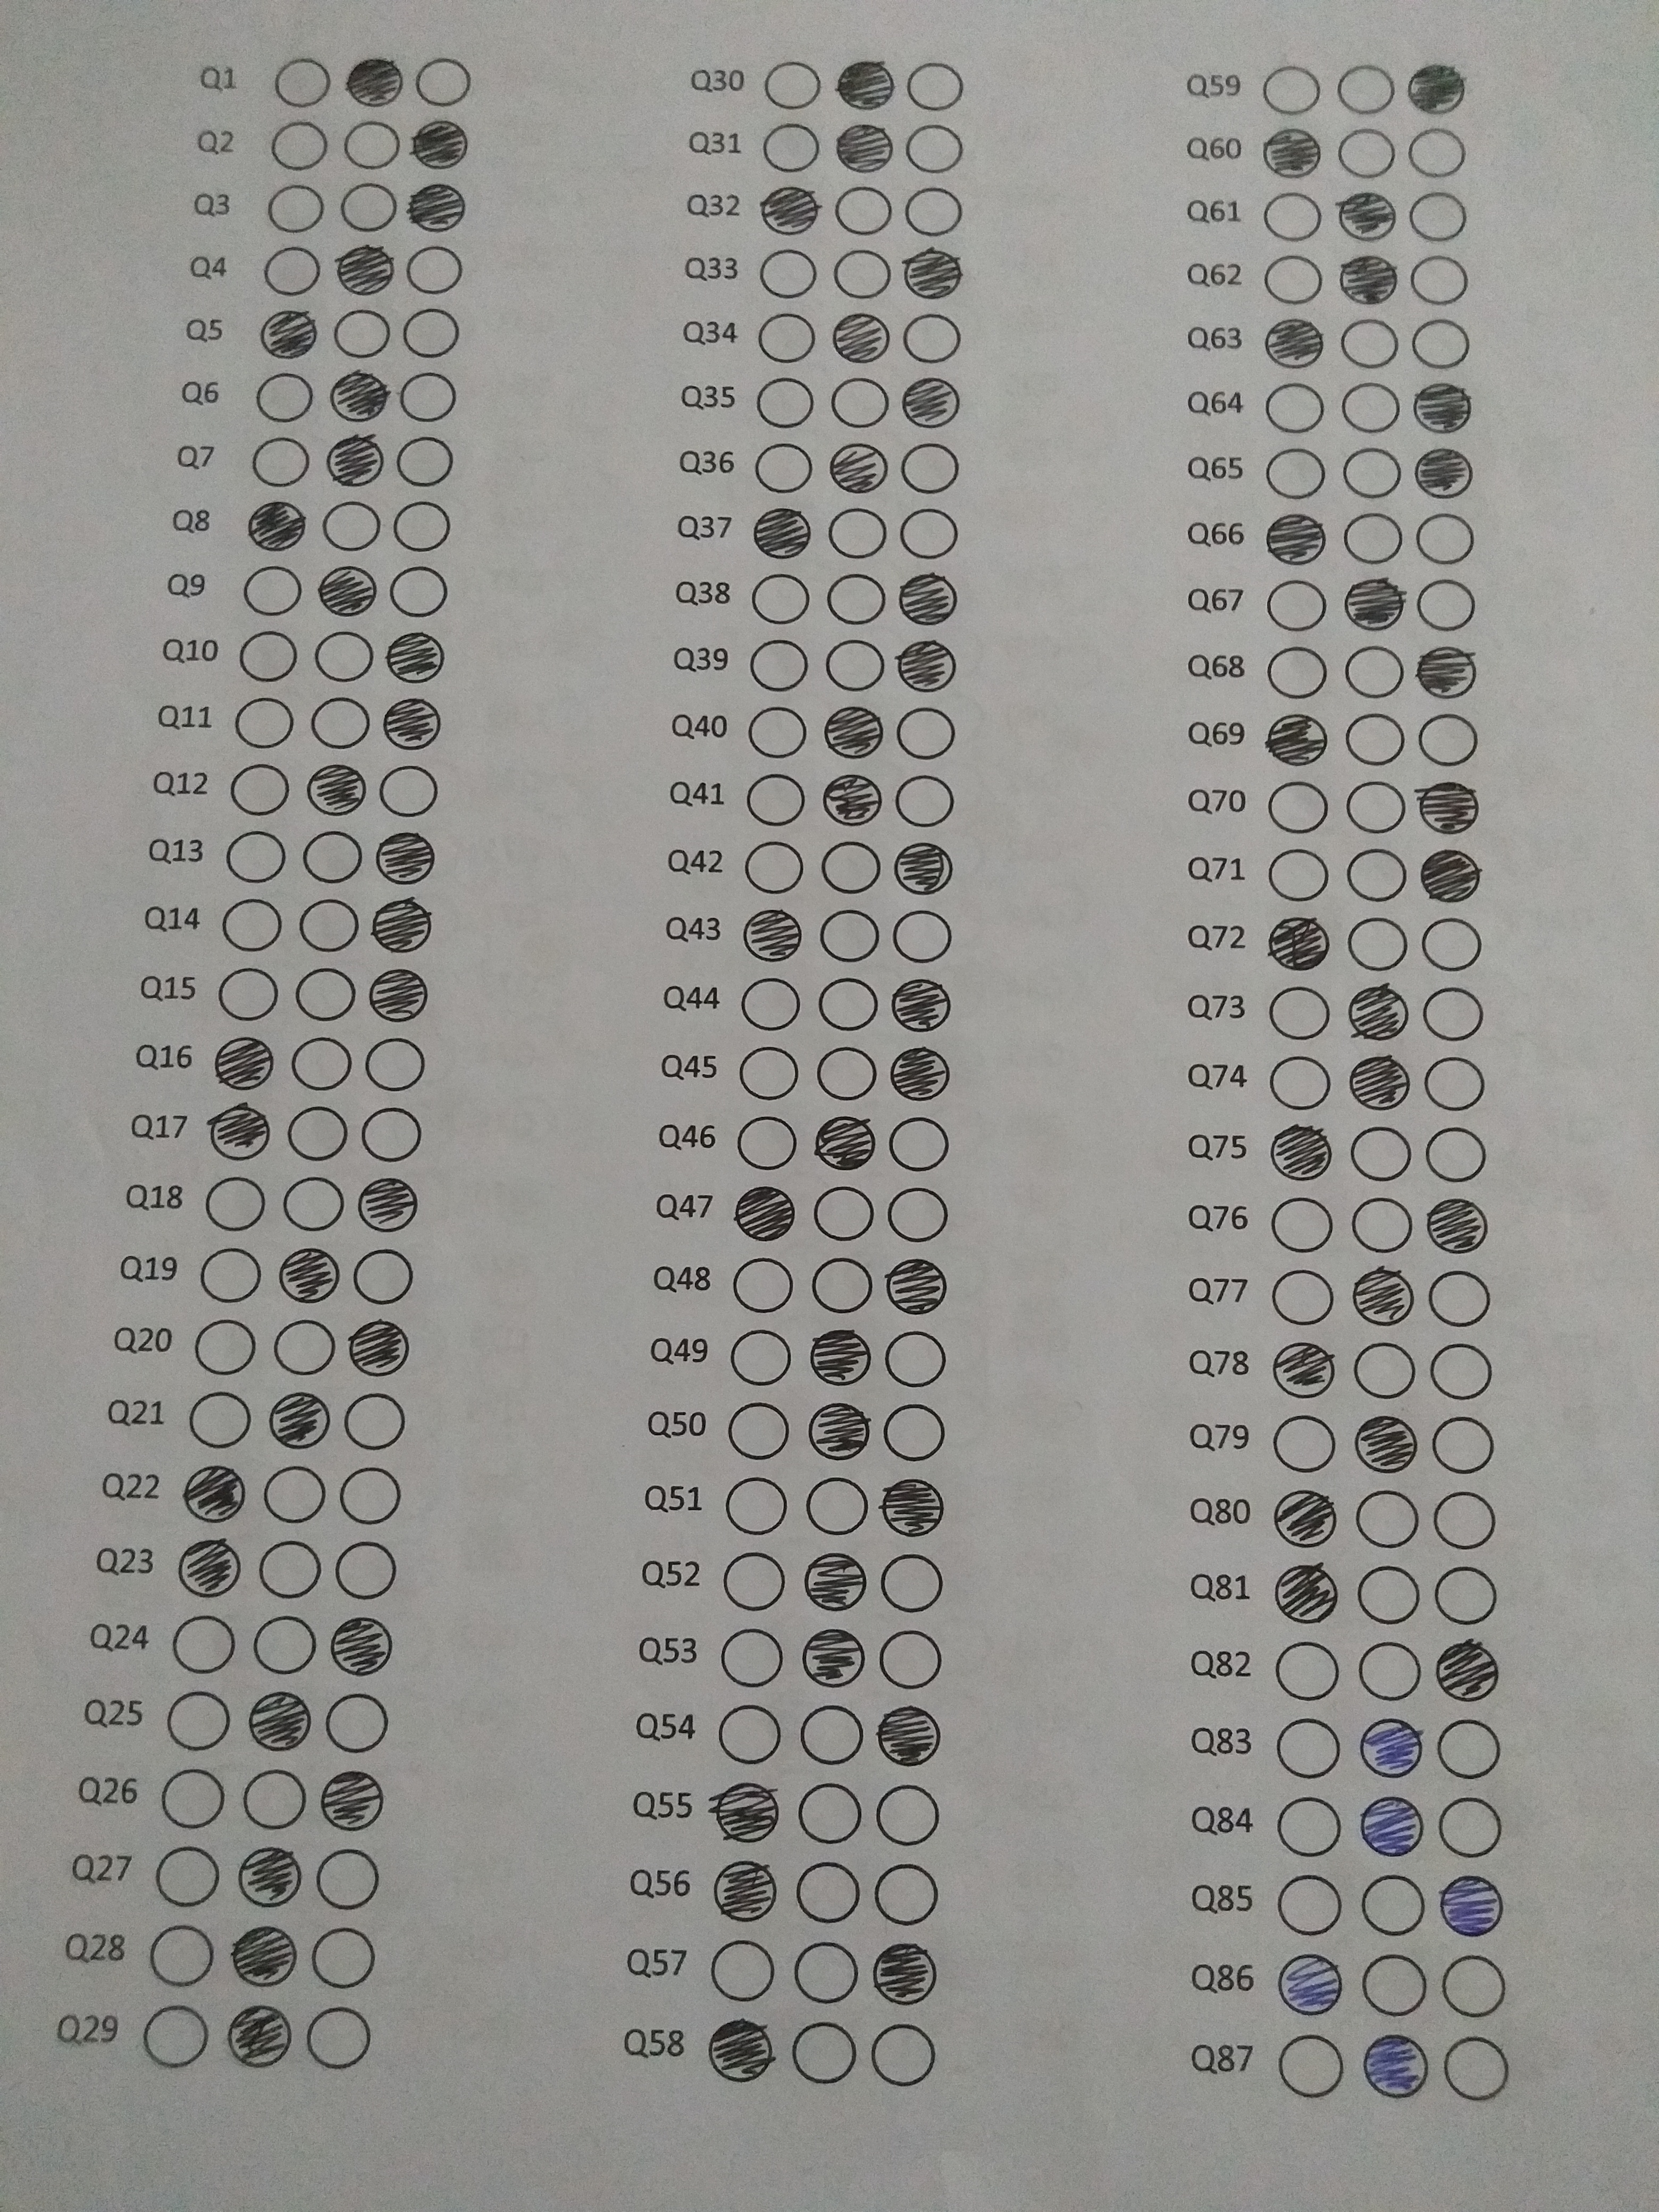not-c: (1276, 1792, 1345, 1858), (1434, 1716, 1504, 1782), (1431, 1561, 1500, 1627), (1354, 1561, 1424, 1627), (1425, 1336, 1495, 1402), (1349, 1336, 1419, 1402), (1427, 1266, 1497, 1332), (322, 1691, 392, 1757), (727, 1324, 796, 1390), (1358, 1871, 1427, 1937), (871, 1862, 941, 1928), (153, 1843, 223, 1909), (720, 1547, 789, 1613), (802, 1472, 871, 1538), (1276, 1794, 1344, 1860), (1270, 1411, 1338, 1477), (795, 1860, 863, 1926), (708, 1939, 775, 2005), (1361, 1952, 1429, 2019), (796, 1782, 864, 1848), (873, 1782, 941, 1848), (141, 2001, 209, 2067), (312, 1846, 380, 1912), (239, 1768, 307, 1834), (725, 1397, 793, 1463), (885, 1399, 953, 1465), (1277, 2033, 1347, 2097), (1276, 1872, 1345, 1937), (1436, 1796, 1506, 1860), (1274, 1716, 1344, 1780), (1272, 1639, 1342, 1703), (1356, 1639, 1425, 1703), (1431, 1487, 1500, 1552), (1354, 1487, 1424, 1552), (164, 1689, 234, 1754), (249, 1615, 319, 1679), (171, 1613, 240, 1677), (878, 1327, 948, 1392), (791, 1940, 861, 2005), (789, 2020, 859, 2085), (868, 2022, 938, 2087), (1439, 1954, 1509, 2019), (878, 1550, 948, 1615), (796, 1705, 866, 1770), (308, 1925, 378, 1989), (160, 1766, 230, 1831), (718, 1625, 788, 1689), (721, 1474, 791, 1538), (716, 1702, 784, 1766), (1429, 1413, 1497, 1477), (1269, 1266, 1337, 1331), (1441, 2036, 1509, 2101), (878, 1627, 946, 1691), (148, 1925, 216, 1989), (305, 2005, 373, 2069), (809, 1183, 877, 1244), (1349, 1123, 1417, 1184), (336, 1465, 404, 1526), (256, 1538, 324, 1599), (261, 1463, 329, 1524), (195, 1244, 263, 1305), (279, 1172, 347, 1233), (282, 1103, 350, 1163), (887, 1183, 953, 1244), (737, 1042, 803, 1103), (739, 974, 805, 1035), (1269, 1191, 1335, 1252), (342, 1390, 408, 1451), (349, 1245, 415, 1306), (202, 1172, 268, 1233), (359, 1103, 425, 1163), (885, 1115, 953, 1174), (331, 1540, 399, 1599), (185, 1388, 253, 1447), (1340, 709, 1410, 766), (730, 1254, 796, 1313), (807, 1254, 873, 1313), (814, 1045, 880, 1104), (734, 1115, 800, 1174), (814, 974, 880, 1033), (814, 906, 880, 965), (1349, 1195, 1415, 1254), (192, 1317, 258, 1376), (272, 1317, 338, 1376), (758, 56, 824, 113), (1338, 378, 1405, 435), (1408, 315, 1474, 373), (258, 240, 324, 298), (823, 570, 889, 627), (1263, 643, 1330, 700), (897, 439, 964, 496), (753, 373, 819, 430), (751, 308, 817, 366), (899, 183, 965, 240), (892, 773, 958, 831), (364, 1036, 430, 1094), (223, 827, 289, 885), (1267, 1054, 1333, 1111), (1344, 916, 1410, 974), (744, 838, 807, 897), (1415, 711, 1480, 768), (1413, 577, 1478, 634), (1340, 509, 1405, 566), (1263, 444, 1328, 502), (1340, 444, 1405, 502), (1263, 378, 1328, 435), (1337, 315, 1401, 373), (1406, 249, 1471, 307), (1260, 186, 1324, 244), (1405, 124, 1469, 181), (1260, 61, 1324, 118), (1333, 59, 1398, 117), (253, 369, 317, 427), (397, 303, 462, 361), (403, 239, 467, 296), (336, 178, 401, 235), (340, 115, 404, 172), (267, 115, 331, 172), (411, 54, 476, 111), (270, 54, 335, 111), (742, 773, 807, 831), (758, 118, 823, 176), (749, 570, 814, 627), (1340, 644, 1405, 702), (896, 503, 960, 561), (753, 437, 817, 495), (828, 373, 892, 430), (899, 310, 964, 368), (755, 246, 819, 303), (831, 246, 896, 303), (833, 185, 897, 242), (887, 909, 951, 967), (823, 634, 887, 691), (894, 705, 958, 763), (1345, 846, 1410, 904), (289, 1035, 354, 1092), (216, 965, 281, 1022), (293, 967, 357, 1024), (296, 897, 361, 954), (227, 761, 291, 819), (376, 761, 441, 819), (234, 693, 298, 751), (310, 627, 375, 685), (240, 561, 305, 618), (385, 563, 450, 620), (387, 496, 451, 554), (390, 432, 455, 489), (1267, 984, 1331, 1042), (1425, 1125, 1490, 1183), (1422, 1054, 1486, 1111), (1405, 188, 1471, 244), (394, 369, 460, 425), (746, 637, 812, 693), (220, 897, 286, 953), (1420, 986, 1486, 1042), (1263, 577, 1328, 632), (1413, 510, 1478, 566), (1262, 251, 1326, 307), (1335, 125, 1399, 181), (328, 305, 392, 361), (265, 179, 329, 235), (826, 503, 890, 559), (903, 118, 967, 174), (903, 59, 967, 115), (744, 705, 809, 761), (1267, 846, 1331, 902), (1345, 777, 1410, 833), (1265, 780, 1330, 836), (301, 829, 366, 885), (308, 695, 373, 751), (235, 629, 300, 685), (247, 434, 312, 489), (819, 840, 884, 895), (1420, 918, 1485, 974), (319, 498, 383, 554)
taken-c: (1352, 1792, 1429, 1862), (1272, 1949, 1349, 2019), (870, 1703, 945, 1773), (1349, 1413, 1424, 1482), (1422, 1191, 1497, 1261), (1267, 1118, 1342, 1188), (1431, 1634, 1506, 1703), (864, 1942, 941, 2010), (709, 1780, 786, 1848), (227, 1925, 303, 1993), (1432, 1874, 1509, 1942), (1269, 1562, 1345, 1630), (1267, 1336, 1344, 1404), (1344, 1261, 1420, 1329), (877, 1472, 953, 1540), (802, 1397, 878, 1465), (1354, 1712, 1429, 1780), (314, 1768, 389, 1836), (232, 1844, 307, 1912), (708, 1860, 782, 1928), (1361, 2033, 1436, 2101), (1267, 1482, 1342, 1550), (800, 1548, 875, 1616), (176, 1458, 249, 1526), (727, 1181, 802, 1247), (702, 2019, 777, 2085), (220, 2003, 295, 2069), (805, 1113, 880, 1179), (361, 961, 436, 1028), (202, 1097, 277, 1162), (885, 974, 958, 1036), (889, 838, 962, 900), (267, 1386, 335, 1453), (882, 1252, 951, 1317), (176, 1536, 246, 1601), (242, 1689, 312, 1754), (803, 1325, 875, 1388), (1345, 1050, 1417, 1113), (209, 1031, 281, 1094), (1406, 376, 1478, 439), (826, 307, 897, 369), (793, 1625, 866, 1686), (342, 49, 411, 111), (816, 766, 887, 827), (1262, 911, 1333, 972), (1410, 775, 1481, 836), (1413, 845, 1485, 906), (816, 698, 887, 759), (366, 895, 437, 956), (369, 826, 441, 887), (300, 758, 371, 819), (376, 690, 448, 751), (378, 629, 450, 690), (308, 559, 380, 620), (240, 493, 312, 554), (321, 428, 392, 489), (324, 364, 396, 425), (251, 305, 322, 366), (329, 237, 401, 298), (401, 172, 472, 233), (890, 568, 962, 629), (744, 500, 816, 561), (823, 435, 894, 496), (899, 373, 971, 434), (1413, 641, 1485, 702), (1338, 573, 1410, 634), (1260, 509, 1331, 570), (1260, 310, 1331, 371), (1333, 249, 1405, 310), (1331, 183, 1403, 244), (1258, 122, 1330, 183), (1401, 63, 1473, 124), (897, 239, 969, 300), (755, 179, 826, 240), (829, 115, 901, 176), (828, 56, 899, 117), (889, 632, 960, 693), (352, 1172, 418, 1237), (884, 1042, 951, 1104), (328, 1616, 396, 1679), (406, 113, 476, 174), (1410, 444, 1480, 505), (1345, 982, 1413, 1043), (345, 1317, 411, 1378), (275, 1247, 338, 1308), (742, 906, 805, 965), (1263, 712, 1330, 768)
